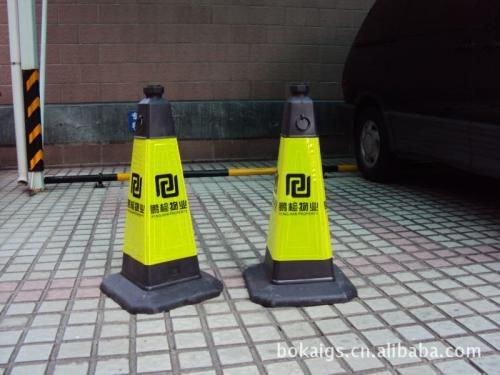cone_barrel: (104, 80, 215, 315), (252, 83, 348, 303)
